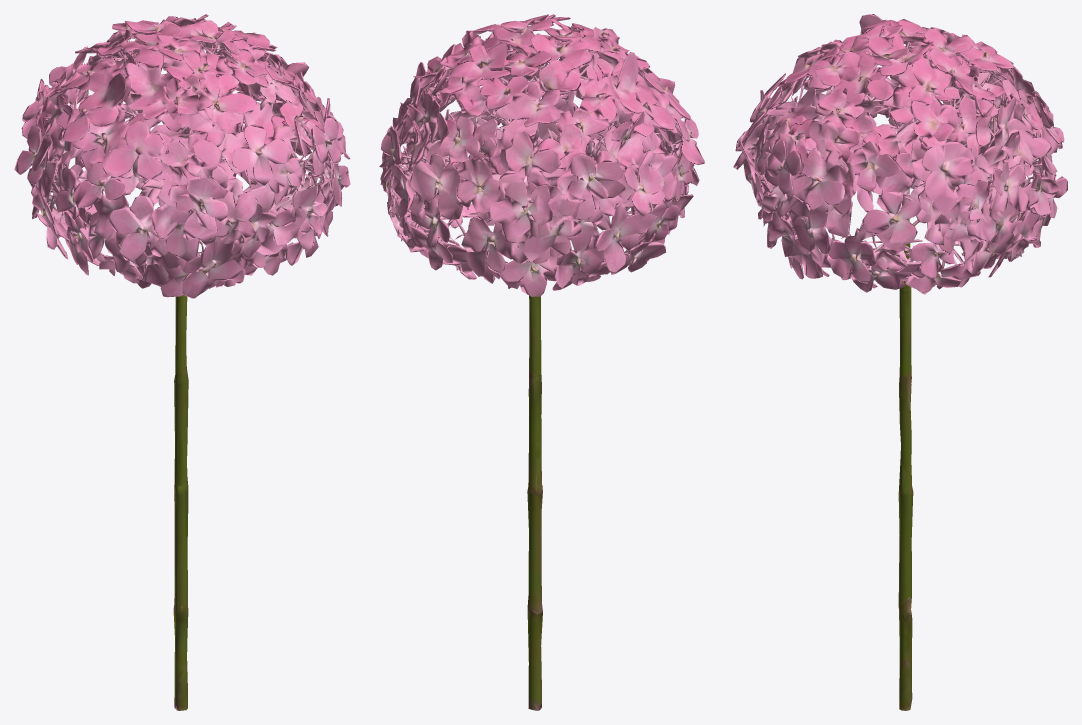
File: pink.glb
The picture shows the model from 3 angles, left to right: view 1: azimuth 30°, elevation 25°; view 2: azimuth 150°, elevation 25°; view 3: azimuth 270°, elevation 25°; orthographic projection.
Bounding box in the file's own units: 0.8087 × 1.9 × 0.8594.
Materials: 1 (1 with a texture image).
